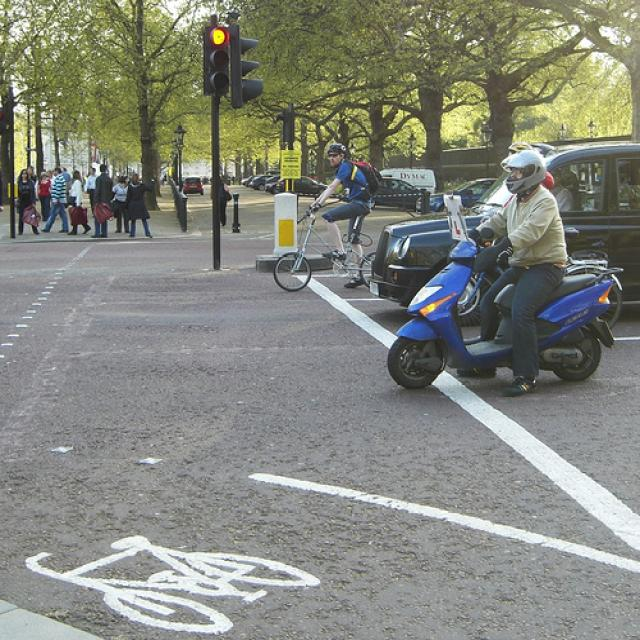motor: (395, 234, 619, 378)
